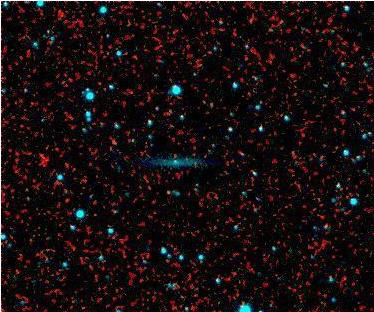star: (153, 174, 183, 204)
